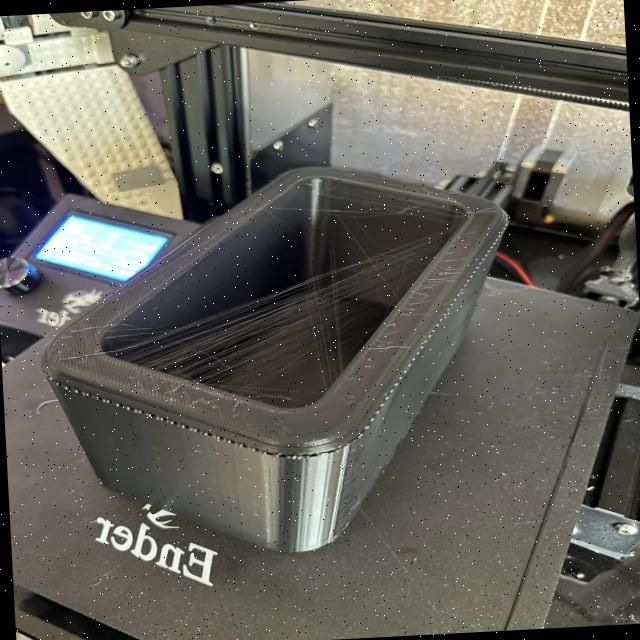stringing: (118, 227, 432, 393)
